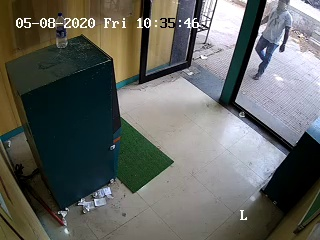open: (138, 2, 269, 109)
